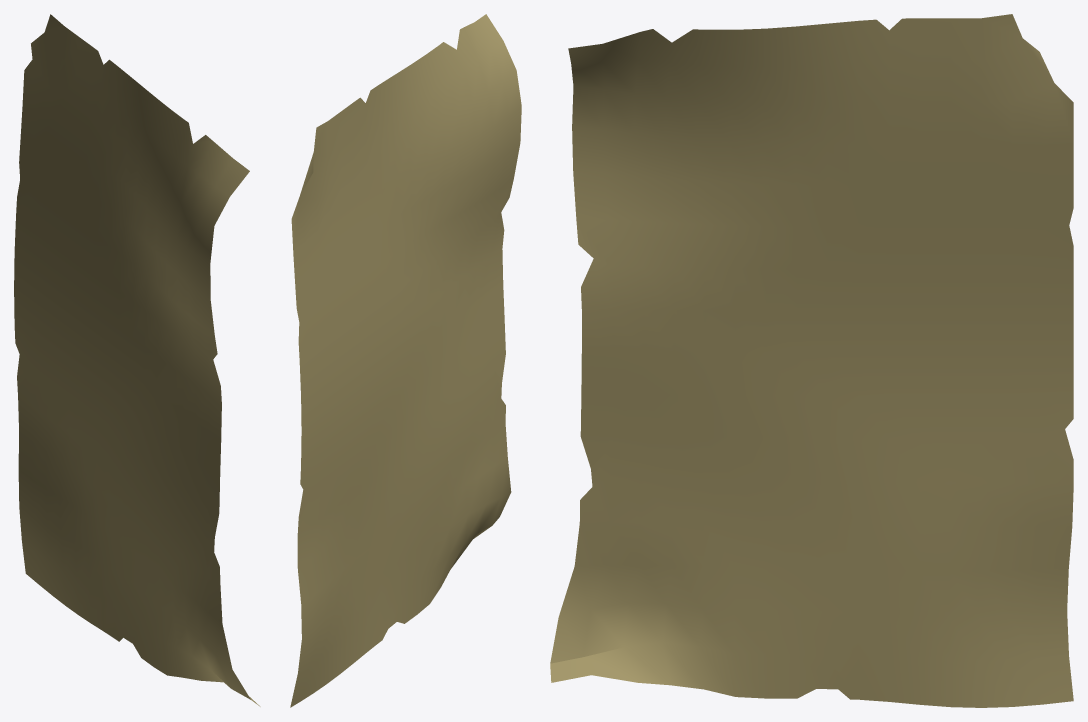
Rendered from kartka.fbx.
3 views of the same model, side by side, from view 1: azimuth 30°, elevation 25°; view 2: azimuth 150°, elevation 25°; view 3: azimuth 270°, elevation 25° (orthographic). The views are drawn at different scales.
Parts seen in each view (by area): view 1: Plane; view 2: Plane; view 3: Plane.
Part boxes in pixels (x1=…): Plane: x1=14, y1=14, x2=260, y2=706; Plane: x1=290, y1=14, x2=521, y2=707; Plane: x1=550, y1=14, x2=1073, y2=707.
Bounding box in the file's own units: 38.29 × 498 × 342.
